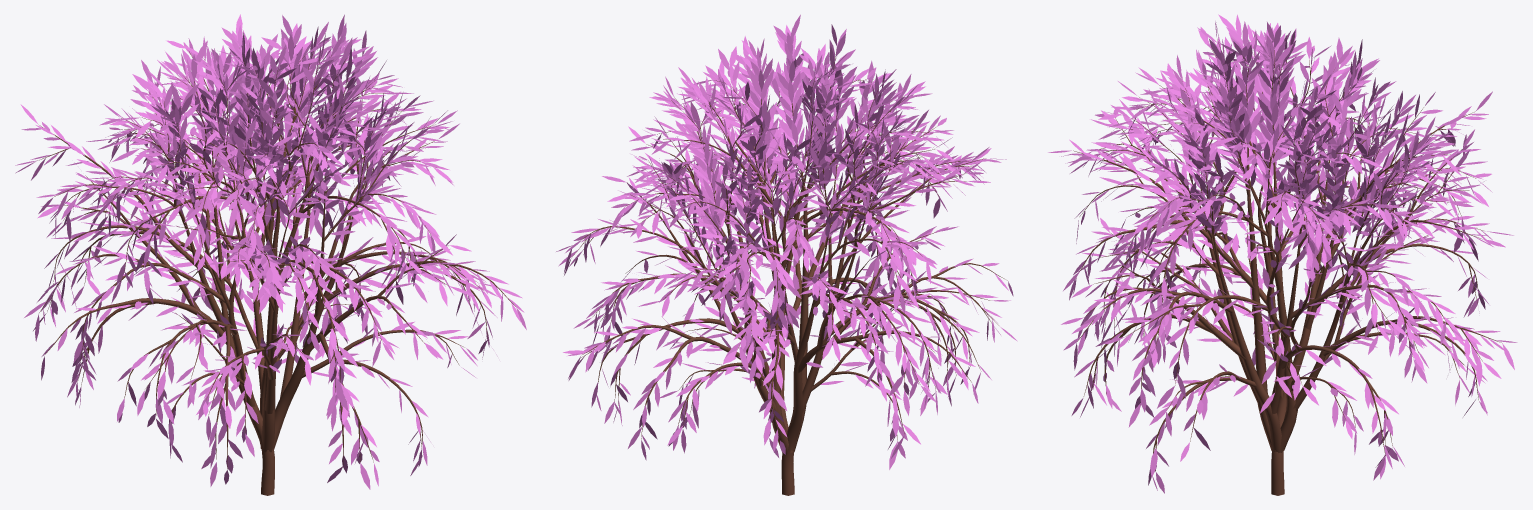
Rendered from tree.fbx.
3 renders of one model, left to right at view 1: azimuth 30°, elevation 25°; view 2: azimuth 150°, elevation 25°; view 3: azimuth 270°, elevation 25°, orthographic. The views are drawn at different scales.
Visible parts, largest first — view 1: leaves, tree; view 2: leaves, tree; view 3: leaves, tree.
Part boxes in pixels (left/top/right/bottom): leaves: left=15, top=14, right=526, bottom=489; tree: left=37, top=51, right=515, bottom=495; leaves: left=556, top=14, right=1017, bottom=469; tree: left=572, top=54, right=1007, bottom=495; leaves: left=1048, top=14, right=1517, bottom=493; tree: left=1073, top=39, right=1501, bottom=495.
Bounding box in the file's own units: 610 × 681 × 624.
